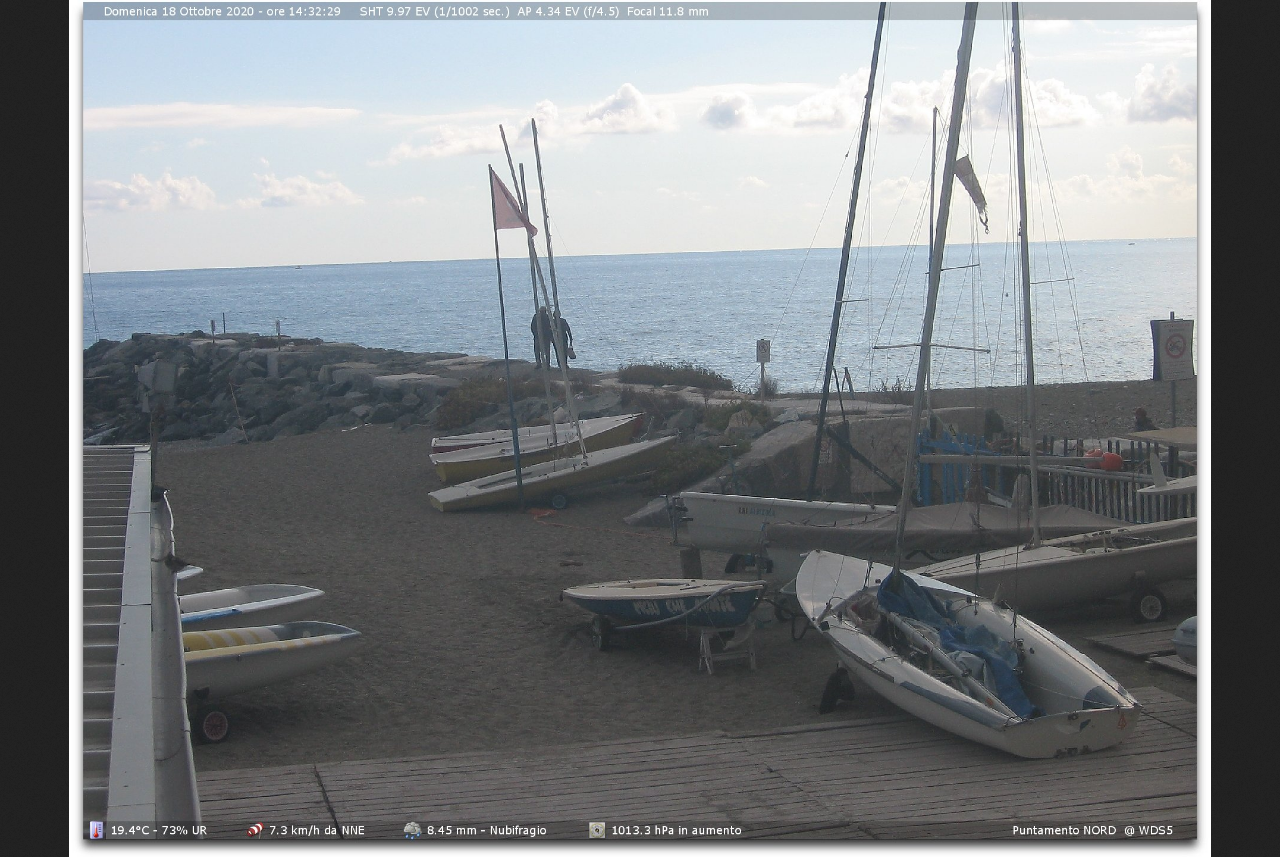maybe: (479, 163, 538, 243)
